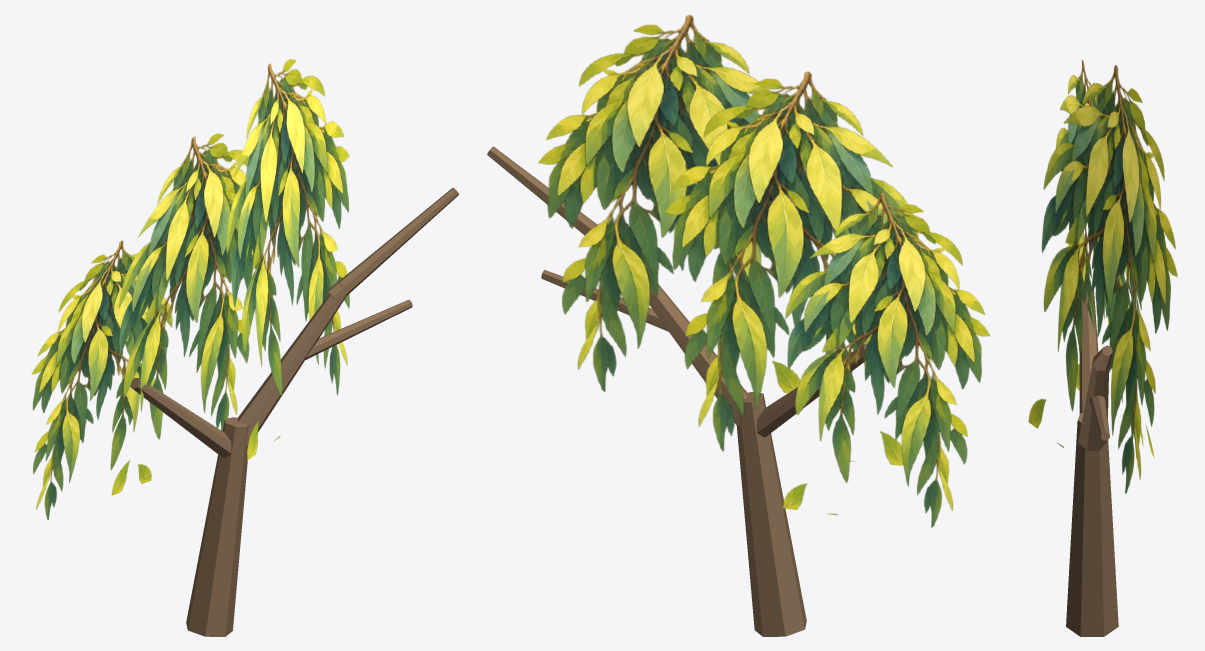
The model's file is TREE_COASTAL_WIND_001_SHAPE_SAFE_LOD_MAP.glb.
3 renders of one model, left to right at view 1: azimuth 30°, elevation 25°; view 2: azimuth 150°, elevation 25°; view 3: azimuth 270°, elevation 25°, orthographic. The views are drawn at different scales.
Parts seen in each view (by area): view 1: GG_NATIVE_SHAPE_SAFE_CARD_02, GG_NATIVE_SHAPE_SAFE_CARD_01, GG_NATIVE_SHAPE_SAFE_CARD_00, GG_TREE_COASTAL_WIND_001_LOCKED_CARCASS_00, GG_TREE_COASTAL_WIND_001_LOCKED_CARCASS_01, GG_TREE_COASTAL_WIND_001_LOCKED_CARCASS_02, GG_TREE_COASTAL_WIND_001_LOCKED_CARCASS_03, GG_TREE_COASTAL_WIND_001_LOCKED_CARCASS_04; view 2: GG_NATIVE_SHAPE_SAFE_CARD_01, GG_NATIVE_SHAPE_SAFE_CARD_02, GG_NATIVE_SHAPE_SAFE_CARD_00, GG_TREE_COASTAL_WIND_001_LOCKED_CARCASS_00, GG_TREE_COASTAL_WIND_001_LOCKED_CARCASS_01, GG_TREE_COASTAL_WIND_001_LOCKED_CARCASS_03, GG_TREE_COASTAL_WIND_001_LOCKED_CARCASS_02, GG_TREE_COASTAL_WIND_001_LOCKED_CARCASS_04; view 3: GG_NATIVE_SHAPE_SAFE_CARD_02, GG_TREE_COASTAL_WIND_001_LOCKED_CARCASS_00, GG_NATIVE_SHAPE_SAFE_CARD_01, GG_TREE_COASTAL_WIND_001_LOCKED_CARCASS_01, GG_TREE_COASTAL_WIND_001_LOCKED_CARCASS_03, GG_TREE_COASTAL_WIND_001_LOCKED_CARCASS_04, GG_TREE_COASTAL_WIND_001_LOCKED_CARCASS_02, GG_NATIVE_SHAPE_SAFE_CARD_00.
Part boxes in pixels (left/top/right/bottom): GG_NATIVE_SHAPE_SAFE_CARD_02: left=226, top=59, right=349, bottom=460; GG_NATIVE_SHAPE_SAFE_CARD_01: left=111, top=133, right=268, bottom=495; GG_NATIVE_SHAPE_SAFE_CARD_00: left=31, top=240, right=172, bottom=519; GG_TREE_COASTAL_WIND_001_LOCKED_CARCASS_00: left=186, top=417, right=248, bottom=636; GG_TREE_COASTAL_WIND_001_LOCKED_CARCASS_01: left=237, top=282, right=349, bottom=447; GG_TREE_COASTAL_WIND_001_LOCKED_CARCASS_02: left=326, top=188, right=458, bottom=302; GG_TREE_COASTAL_WIND_001_LOCKED_CARCASS_03: left=130, top=377, right=231, bottom=458; GG_TREE_COASTAL_WIND_001_LOCKED_CARCASS_04: left=305, top=299, right=412, bottom=359; GG_NATIVE_SHAPE_SAFE_CARD_01: left=664, top=71, right=918, bottom=465; GG_NATIVE_SHAPE_SAFE_CARD_02: left=538, top=15, right=799, bottom=392; GG_NATIVE_SHAPE_SAFE_CARD_00: left=783, top=192, right=990, bottom=527; GG_TREE_COASTAL_WIND_001_LOCKED_CARCASS_00: left=736, top=391, right=806, bottom=636; GG_TREE_COASTAL_WIND_001_LOCKED_CARCASS_01: left=649, top=284, right=748, bottom=425; GG_TREE_COASTAL_WIND_001_LOCKED_CARCASS_03: left=757, top=343, right=867, bottom=437; GG_TREE_COASTAL_WIND_001_LOCKED_CARCASS_02: left=487, top=146, right=597, bottom=235; GG_TREE_COASTAL_WIND_001_LOCKED_CARCASS_04: left=541, top=270, right=668, bottom=331; GG_NATIVE_SHAPE_SAFE_CARD_02: left=1028, top=65, right=1177, bottom=493; GG_TREE_COASTAL_WIND_001_LOCKED_CARCASS_00: left=1066, top=412, right=1118, bottom=636; GG_NATIVE_SHAPE_SAFE_CARD_01: left=1056, top=59, right=1143, bottom=458; GG_TREE_COASTAL_WIND_001_LOCKED_CARCASS_01: left=1078, top=355, right=1109, bottom=451; GG_TREE_COASTAL_WIND_001_LOCKED_CARCASS_03: left=1079, top=286, right=1098, bottom=414; GG_TREE_COASTAL_WIND_001_LOCKED_CARCASS_04: left=1089, top=395, right=1109, bottom=440; GG_TREE_COASTAL_WIND_001_LOCKED_CARCASS_02: left=1091, top=345, right=1112, bottom=371; GG_NATIVE_SHAPE_SAFE_CARD_00: left=1103, top=268, right=1154, bottom=457.
Bounding box in the file's own units: 29.19 × 34.19 × 8.57.
2 materials, 1 textured.
